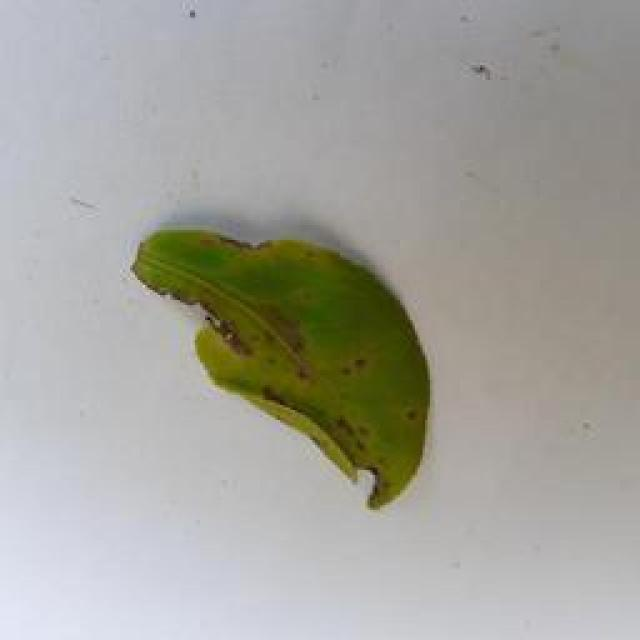Helopeltis: (122, 220, 437, 512)
